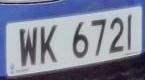1: (123, 10, 135, 52)
2: (108, 14, 126, 55)
6: (69, 18, 90, 59)
7: (89, 16, 109, 59)
K: (38, 21, 61, 71)
W: (17, 23, 40, 71)
